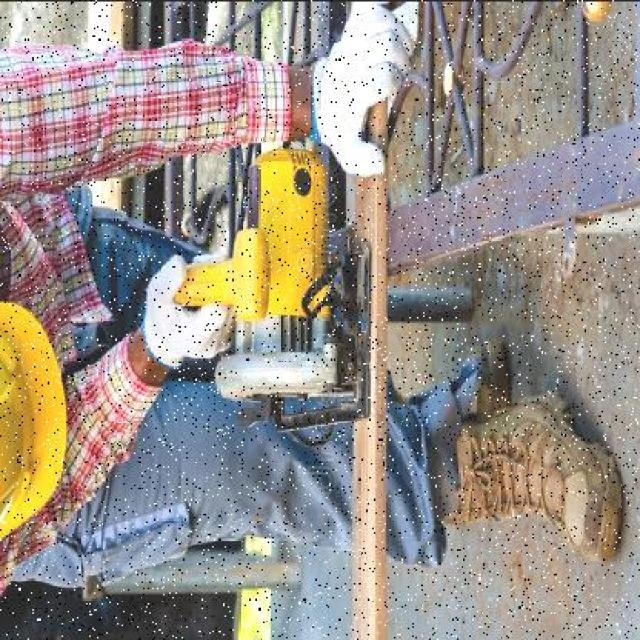shoes: (442, 390, 624, 558)
